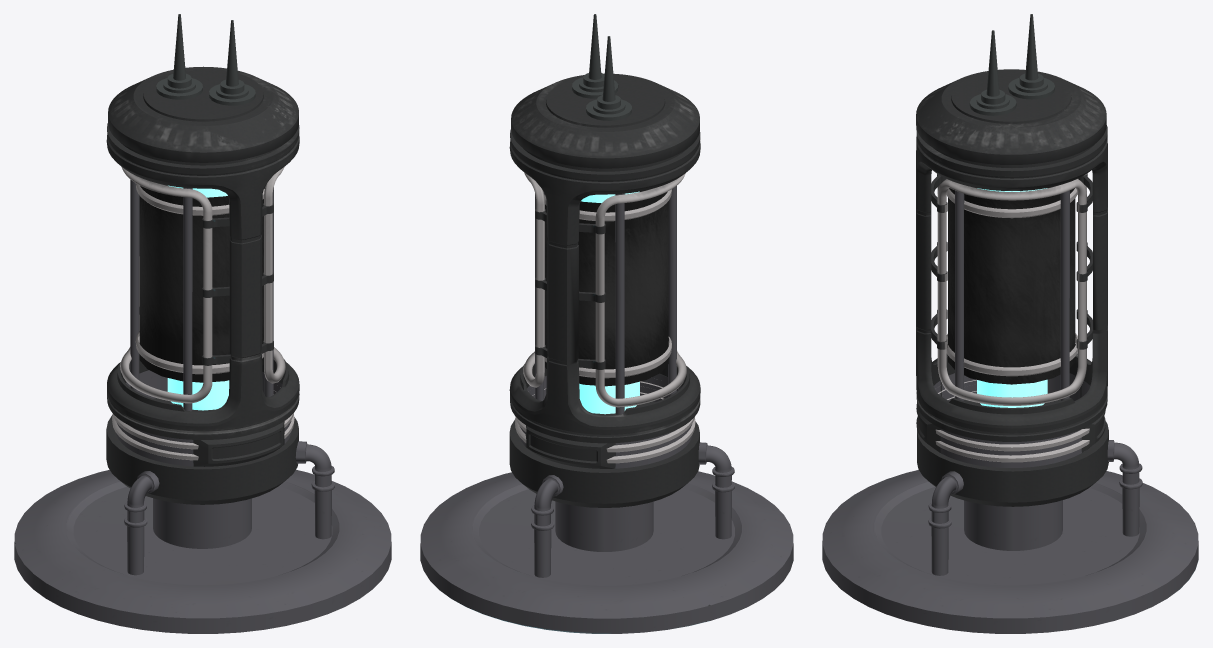
File: generator.glb
3 views of the same model, side by side, from view 1: azimuth 30°, elevation 25°; view 2: azimuth 150°, elevation 25°; view 3: azimuth 270°, elevation 25° (orthographic).
Visible parts, largest first — view 1: Object_3, Object_4, Object_2; view 2: Object_3, Object_4, Object_2; view 3: Object_3, Object_4, Object_2.
Part boxes in pixels (<box>): Object_3: <box>14,14,391,633</box>; Object_4: <box>112,179,293,575</box>; Object_2: <box>106,398,298,504</box>; Object_3: <box>420,14,793,633</box>; Object_4: <box>515,186,734,539</box>; Object_2: <box>509,401,699,507</box>; Object_3: <box>822,14,1198,633</box>; Object_4: <box>934,179,1090,467</box>; Object_2: <box>917,399,1108,506</box>.
Bounding box in the file's own units: 7.11 × 11.12 × 7.11.
Materials: 1 (1 with a texture image).
